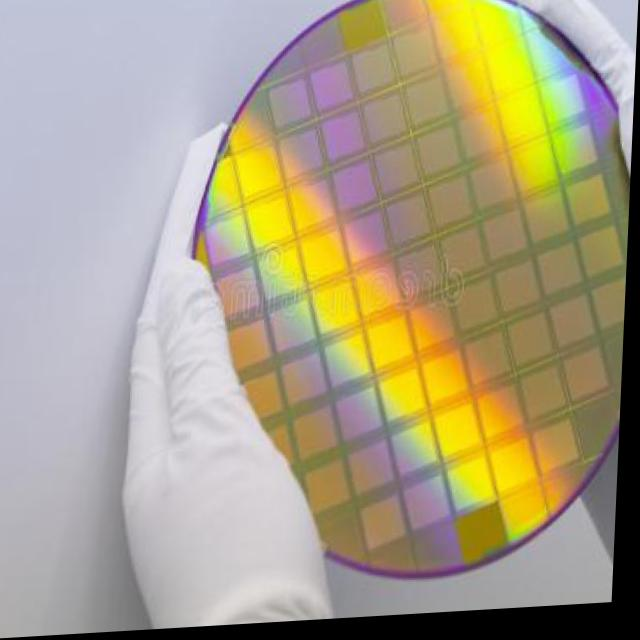Wafer: (195, 0, 632, 584)
